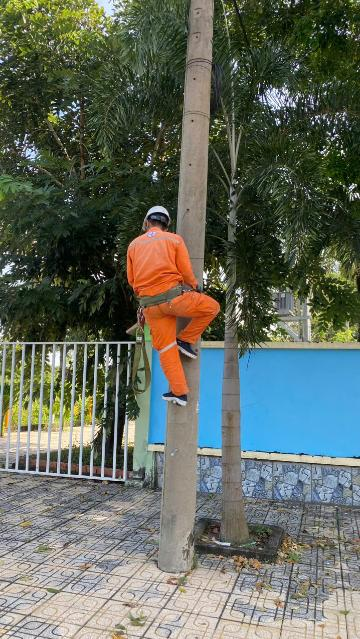gloves: (189, 278, 217, 298)
harness: (130, 287, 191, 306)
helmet: (120, 199, 176, 228)
shoes: (147, 381, 192, 414), (171, 338, 209, 367)
